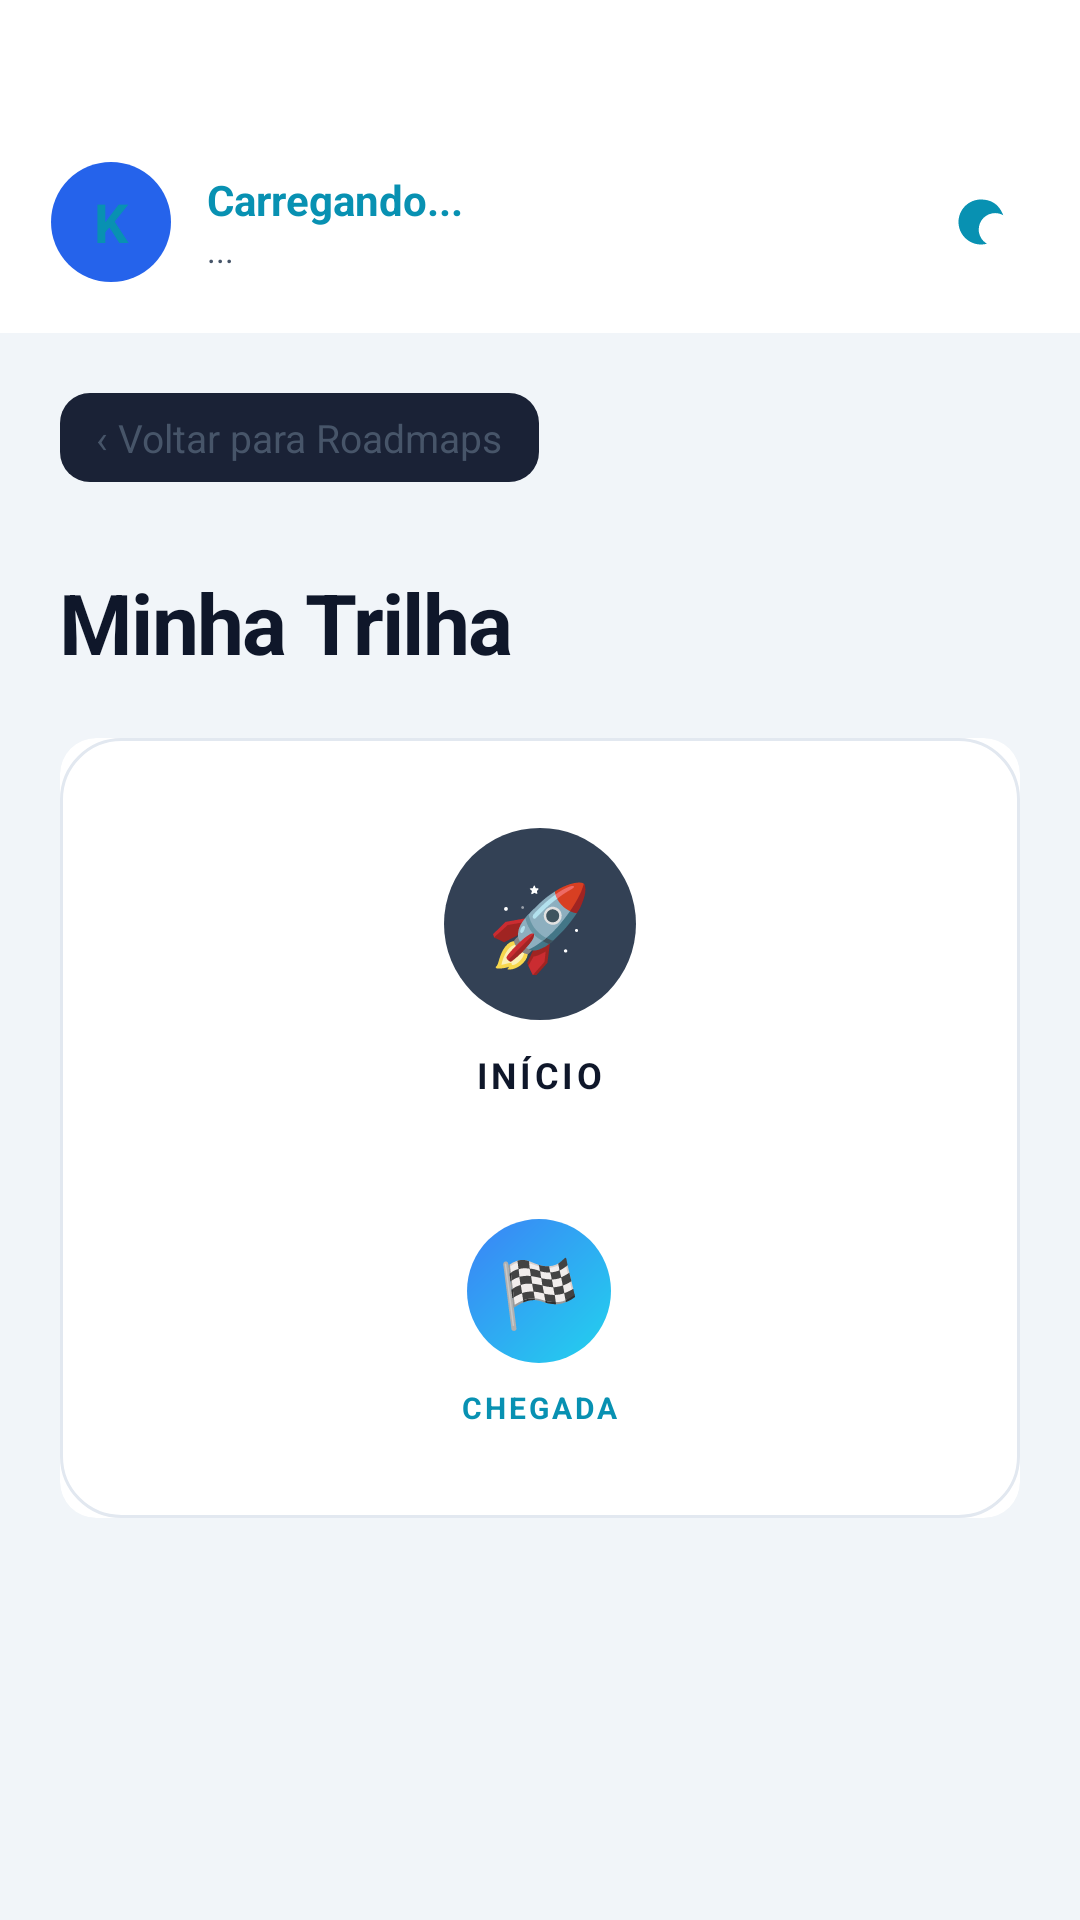

Where icons sit on this 1080x1920 app screen, as (x1, y1, x2, y2):
Alternar Tema: (958, 199, 1003, 245)
